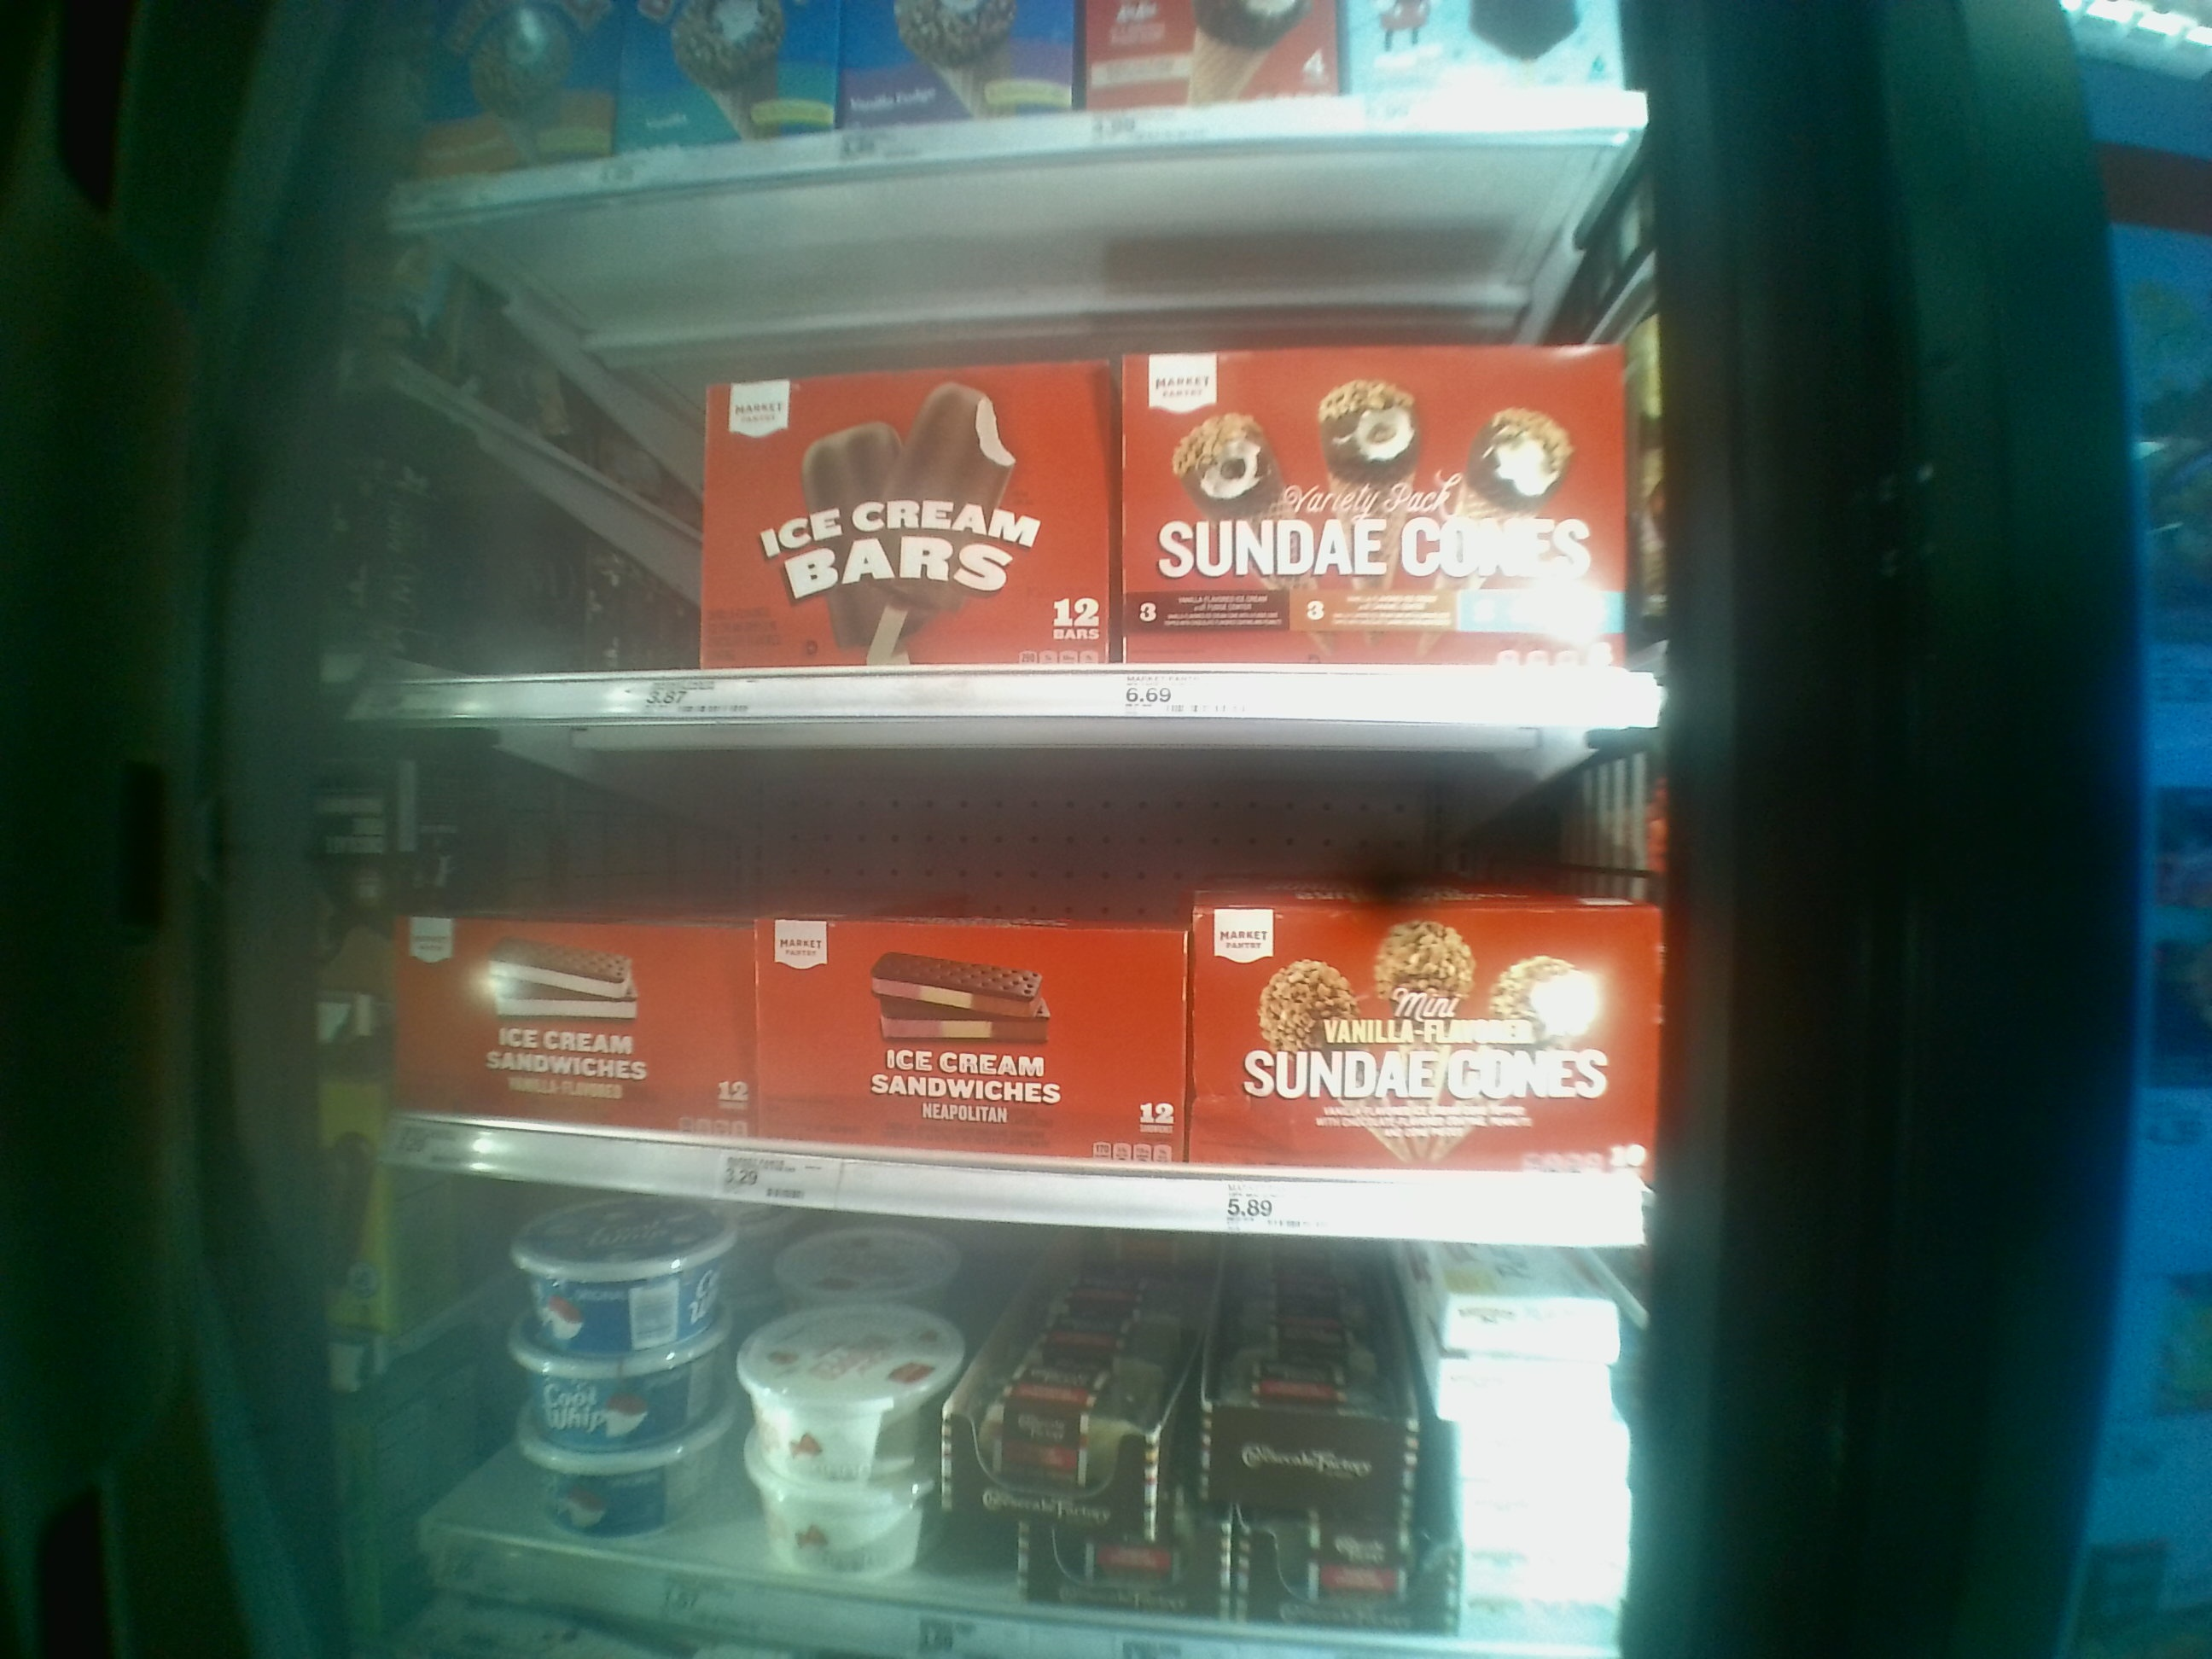frozen-food-shelf: (331, 728, 1676, 1251), (331, 230, 1674, 732)
